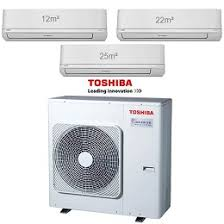ac: (57, 41, 169, 80), (116, 7, 224, 42), (2, 7, 109, 42)
